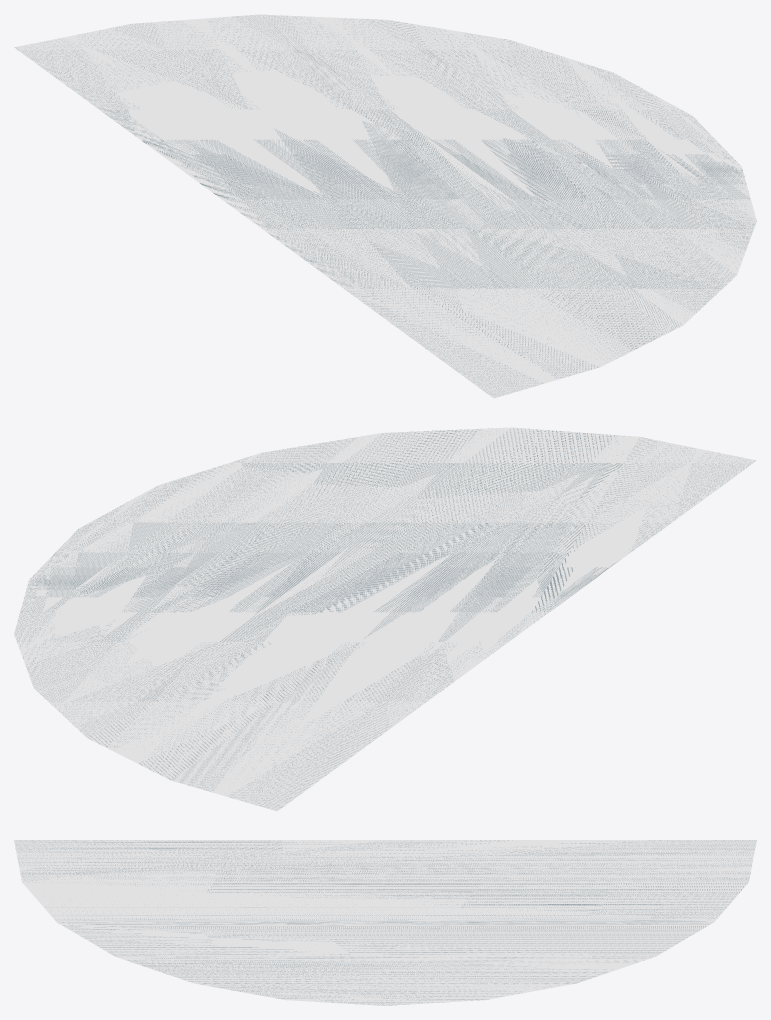
File: Median_End.obj
The picture shows the model from 3 angles, top to bottom: view 1: azimuth 30°, elevation 25°; view 2: azimuth 150°, elevation 25°; view 3: azimuth 270°, elevation 25°; orthographic projection. The views are drawn at different scales.
Visible parts, largest first — view 1: Mesh1 Model; view 2: Mesh1 Model; view 3: Mesh1 Model.
Boxes of the visible parts, x1,y1,x2,y2 form: Mesh1 Model: (14, 14, 756, 398); Mesh1 Model: (14, 427, 756, 811); Mesh1 Model: (14, 840, 756, 1005).
Bounding box in the file's own units: 1.58 × 3.63e-15 × 3.
